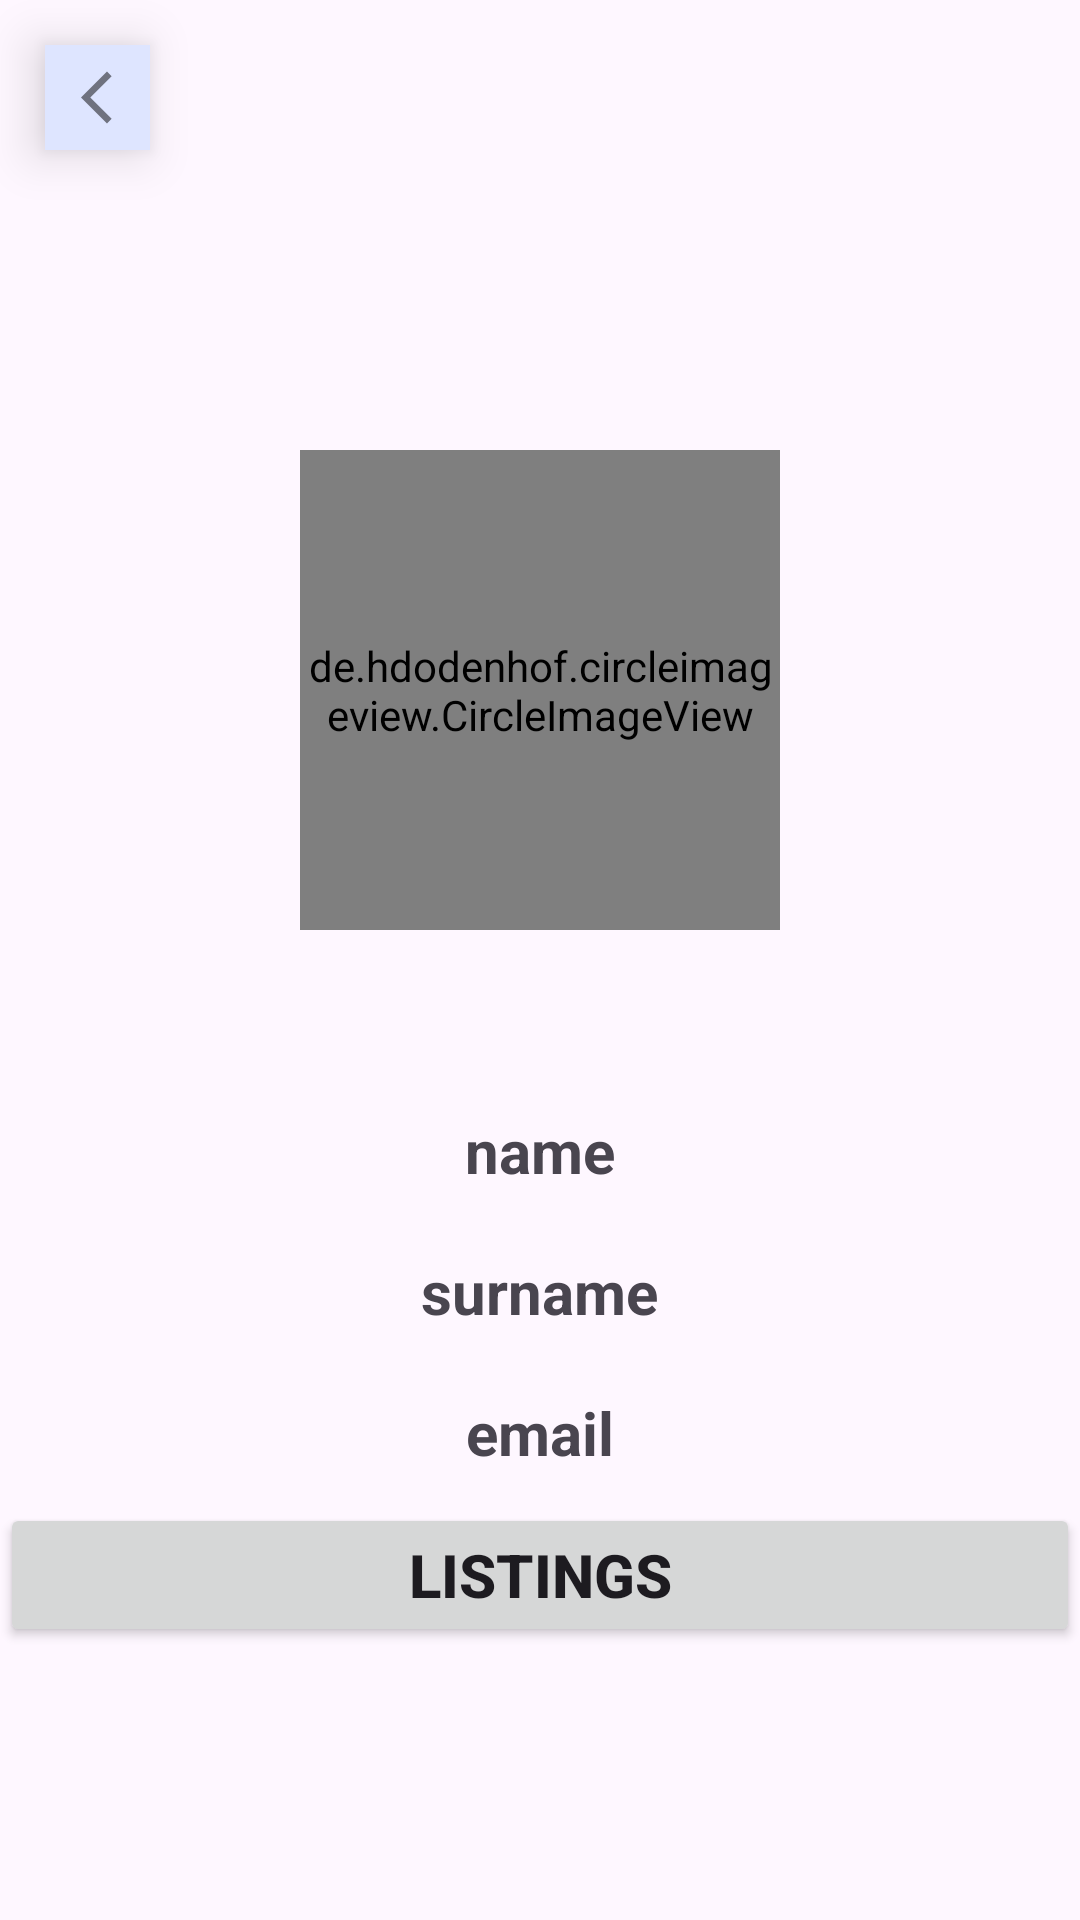

Screen size 1080x1920. Icon name, then its box in pixels as (x1=x1, y1=y1, x2=x2, y2=y2):
back: (x1=45, y1=45, x2=150, y2=150)
